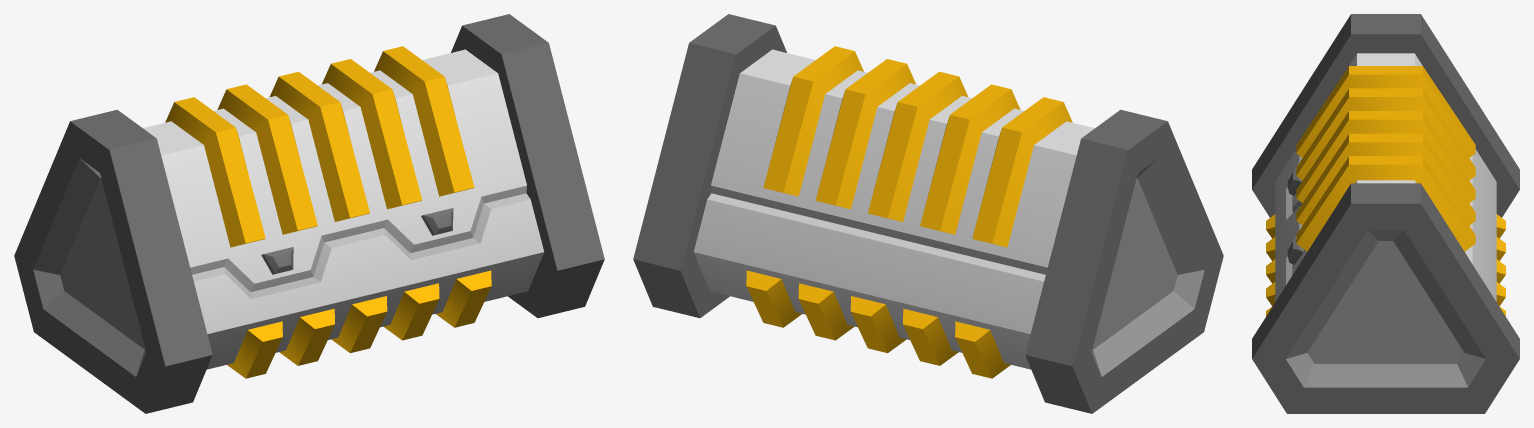
Rendered from Crate_007.glb.
3 views of the same model, side by side, from view 1: azimuth 30°, elevation 25°; view 2: azimuth 150°, elevation 25°; view 3: azimuth 270°, elevation 25° (orthographic). The views are drawn at different scales.
Parts seen in each view (by area): view 1: Crate_007; view 2: Crate_007; view 3: Crate_007.
Part boxes in pixels (box(x1,y1,x2,y2)): Crate_007: box(14, 14, 604, 413); Crate_007: box(633, 14, 1223, 413); Crate_007: box(1252, 14, 1519, 413).
Size of the model in its own units: 1.01 by 0.5229 by 0.6038.
Materials: 1 (1 with a texture image).
